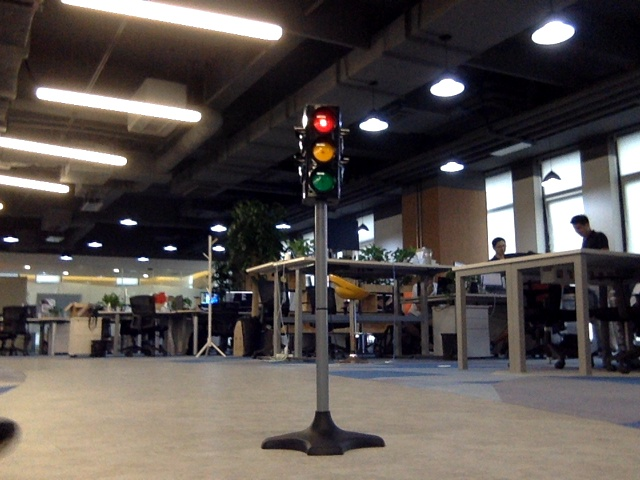red: (306, 108, 340, 190)
